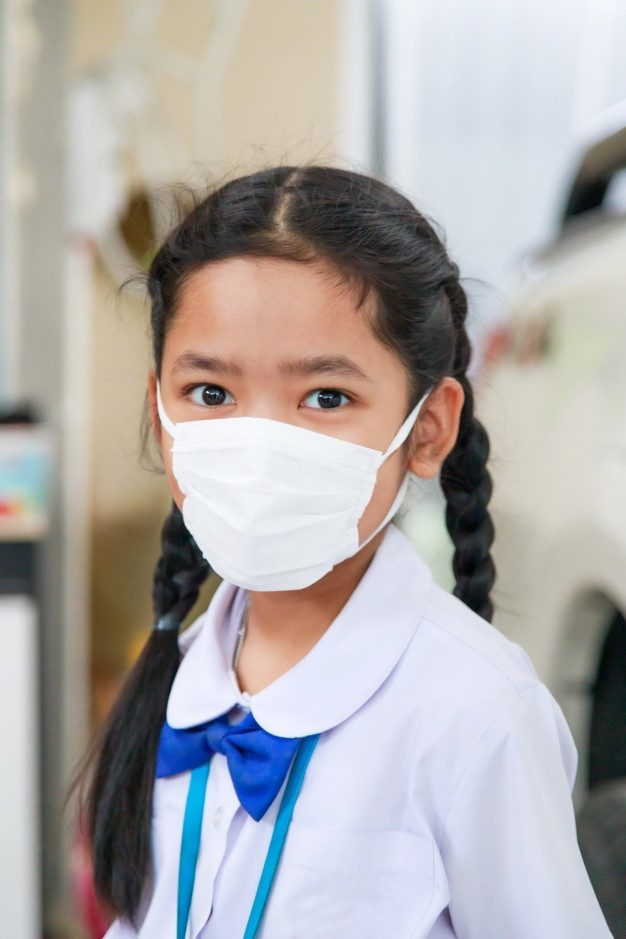face_with_mask: (135, 231, 466, 620)
